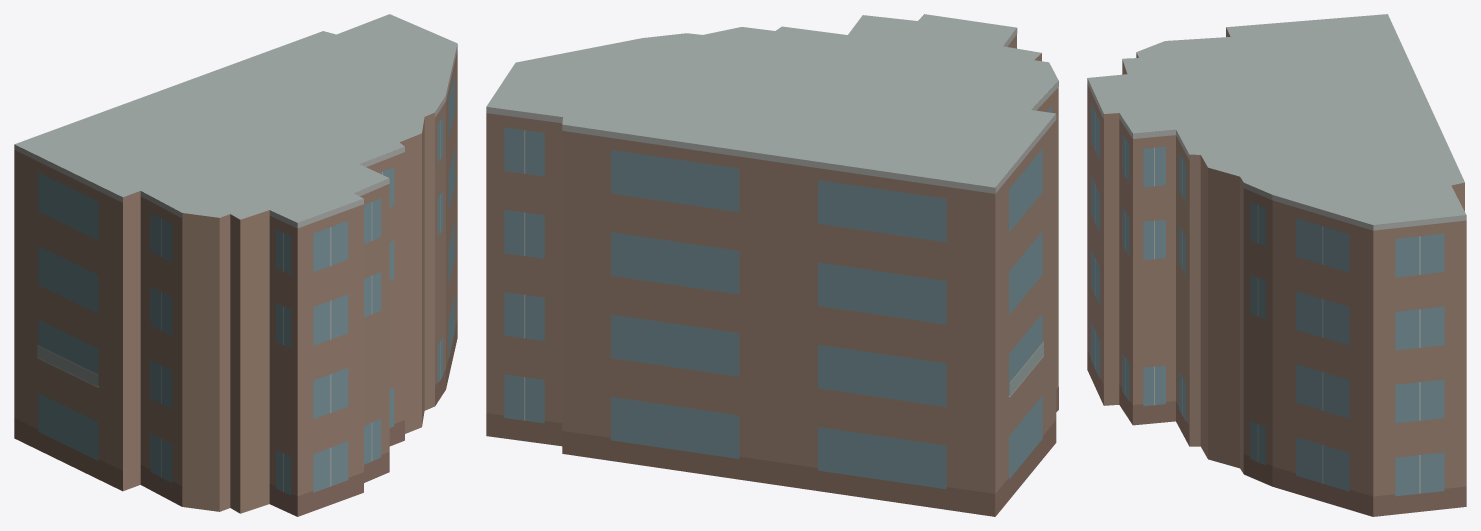
Rendered from survey-upis-32629835.glb.
3 views of the same model, side by side, from view 1: azimuth 30°, elevation 25°; view 2: azimuth 150°, elevation 25°; view 3: azimuth 270°, elevation 25° (orthographic). The views are drawn at different scales.
Visible parts, largest first — view 1: survey-upis-32629835.tmp; view 2: survey-upis-32629835.tmp; view 3: survey-upis-32629835.tmp.
Boxes of the visible parts, box(x1,y1,x2,y2) form: survey-upis-32629835.tmp: box(14, 14, 457, 516); survey-upis-32629835.tmp: box(486, 14, 1058, 516); survey-upis-32629835.tmp: box(1087, 14, 1466, 516).
Size of the model in its own units: 20.03 by 12.9 by 15.2.
